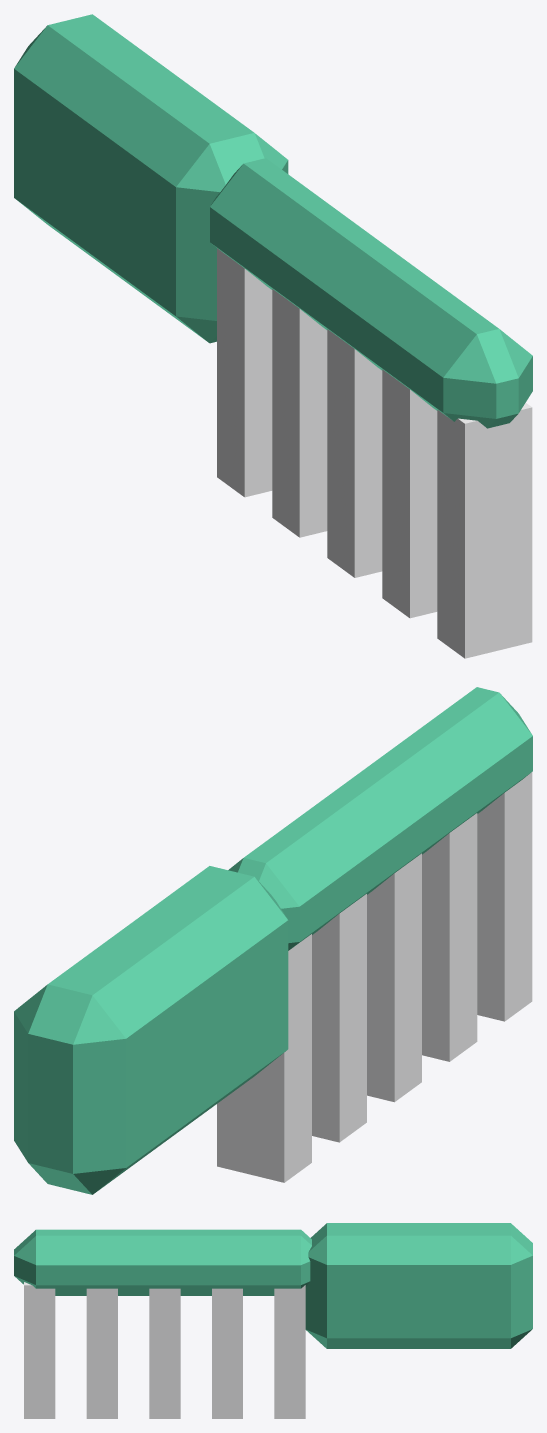
Rendered from CleanACat_Tool_Comb.fbx.
3 views of the same model, one above another, from view 1: azimuth 30°, elevation 25°; view 2: azimuth 150°, elevation 25°; view 3: azimuth 270°, elevation 25° (orthographic). The views are drawn at different scales.
Visible parts, largest first — view 1: CleanACat_Tool_Comb; view 2: CleanACat_Tool_Comb; view 3: CleanACat_Tool_Comb.
Part boxes in pixels (x1,y1,x2,y2): CleanACat_Tool_Comb: [14, 14, 532, 658]; CleanACat_Tool_Comb: [14, 687, 532, 1194]; CleanACat_Tool_Comb: [14, 1223, 532, 1418].
Size of the model in its own units: 0.2 by 0.54 by 1.41.
1 material, 1 textured.
